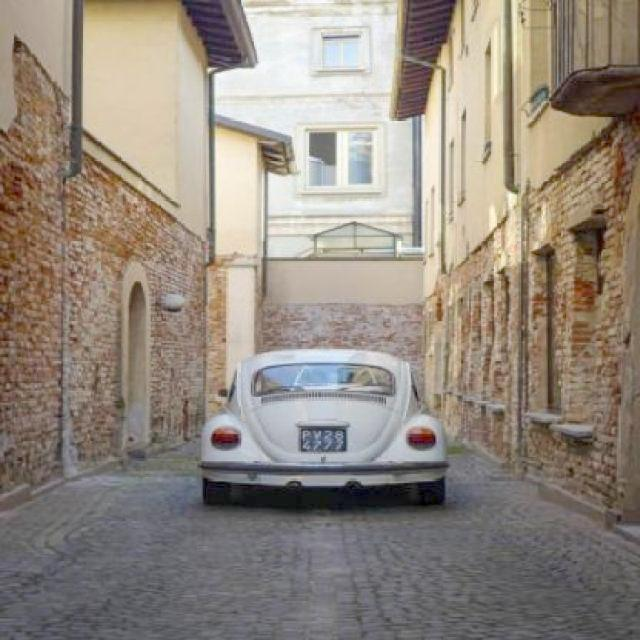car: (193, 337, 456, 495)
